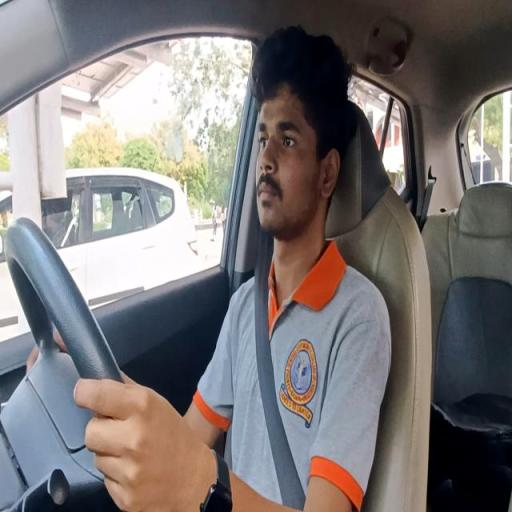Normal: (33, 21, 394, 512)
